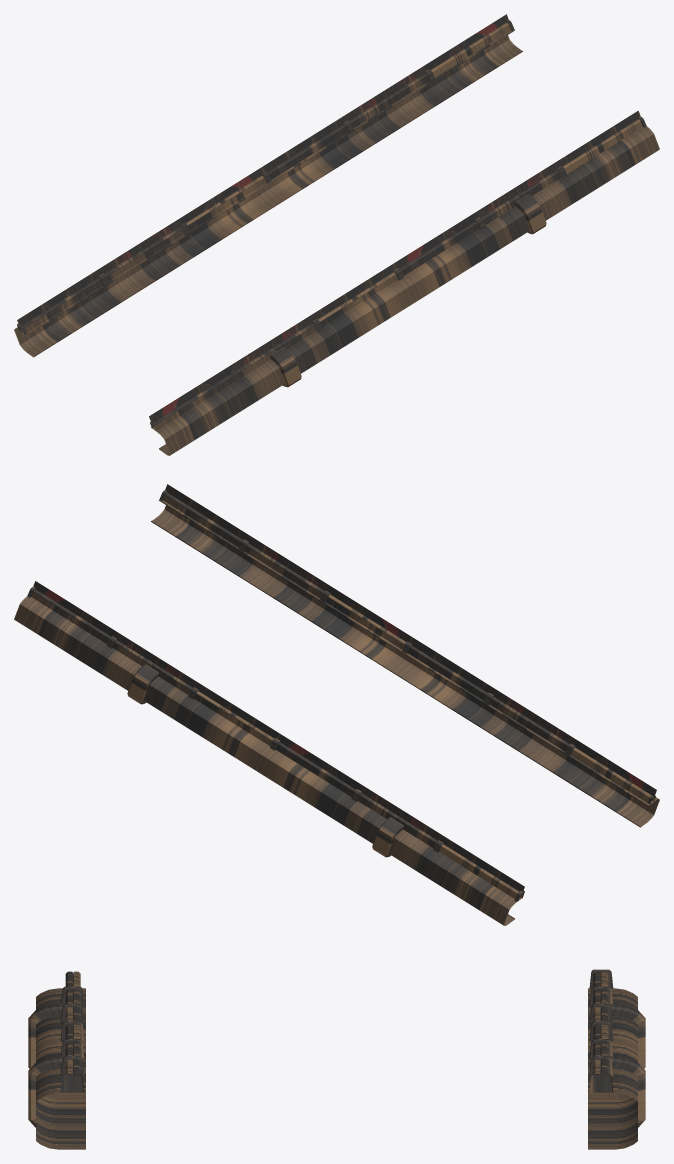
The model's file is Mur_D_20.fbx.
3 views of the same model, one above another, from view 1: azimuth 30°, elevation 25°; view 2: azimuth 150°, elevation 25°; view 3: azimuth 270°, elevation 25° (orthographic). The views are drawn at different scales.
Visible parts, largest first — view 1: polySurface192; view 2: polySurface192; view 3: polySurface192.
Boxes of the visible parts, x1,y1,x2,y2 form: polySurface192: (14,14,659,455); polySurface192: (14,484,659,925); polySurface192: (28,969,645,1149).
Size of the model in its own units: 28.96 by 12.39 by 15.38.
